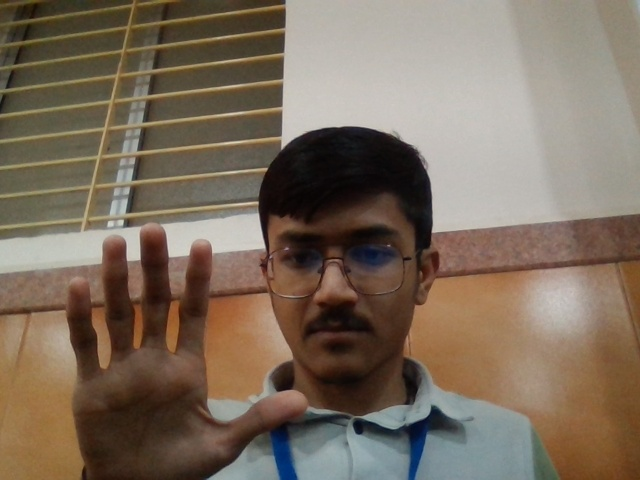Hello: (41, 214, 310, 480)
